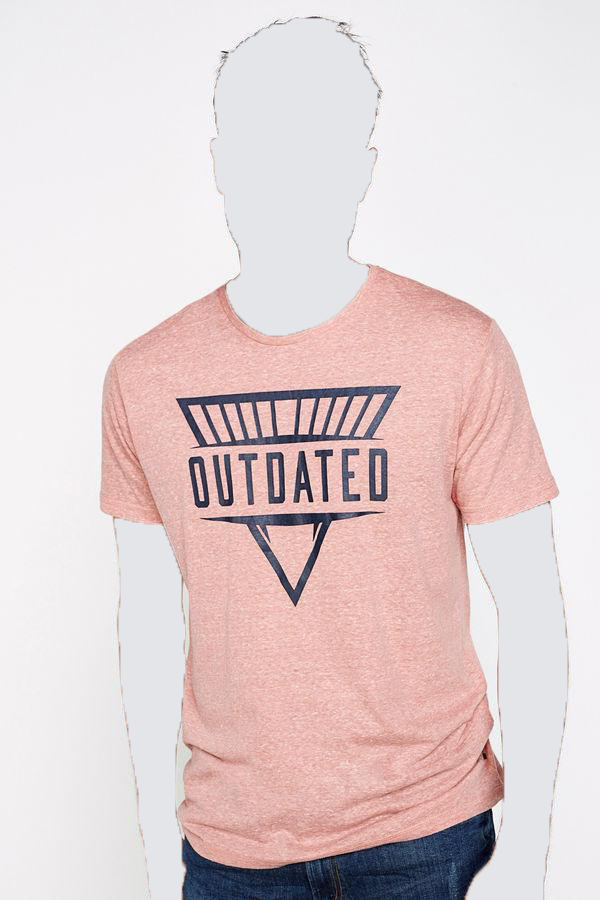teeshirt: (72, 260, 572, 875)
